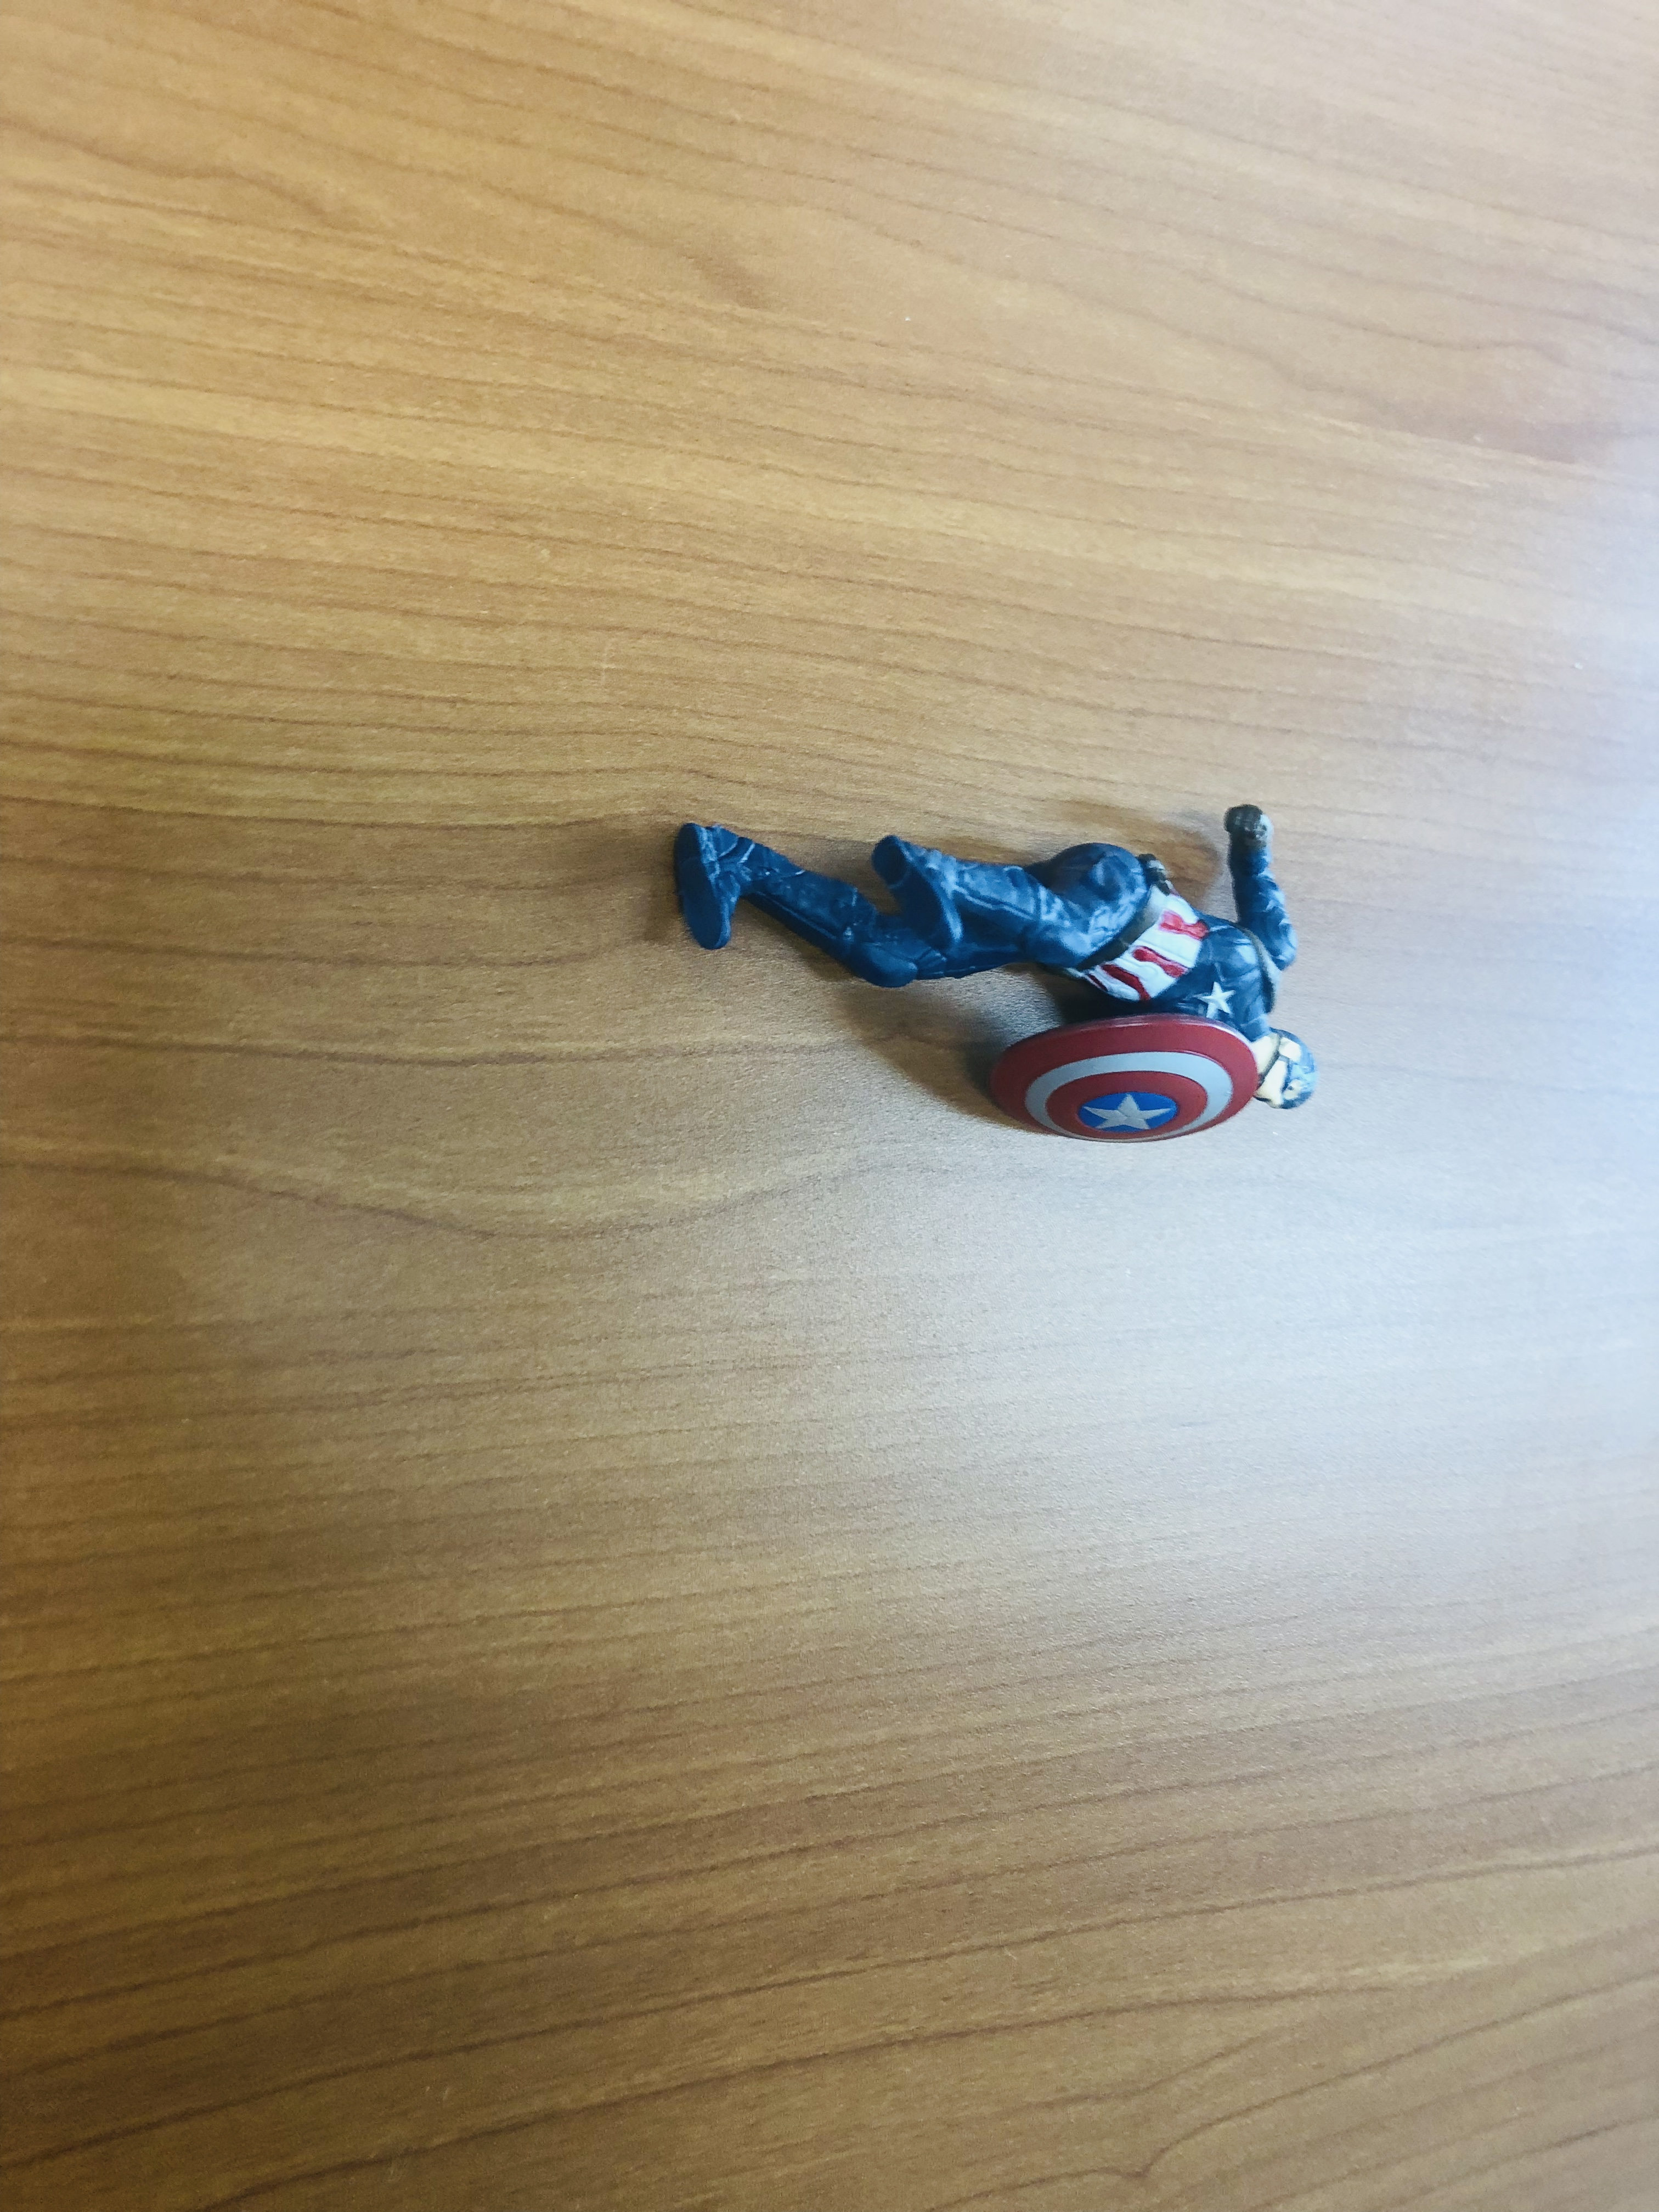people: (667, 799, 1319, 1139)
